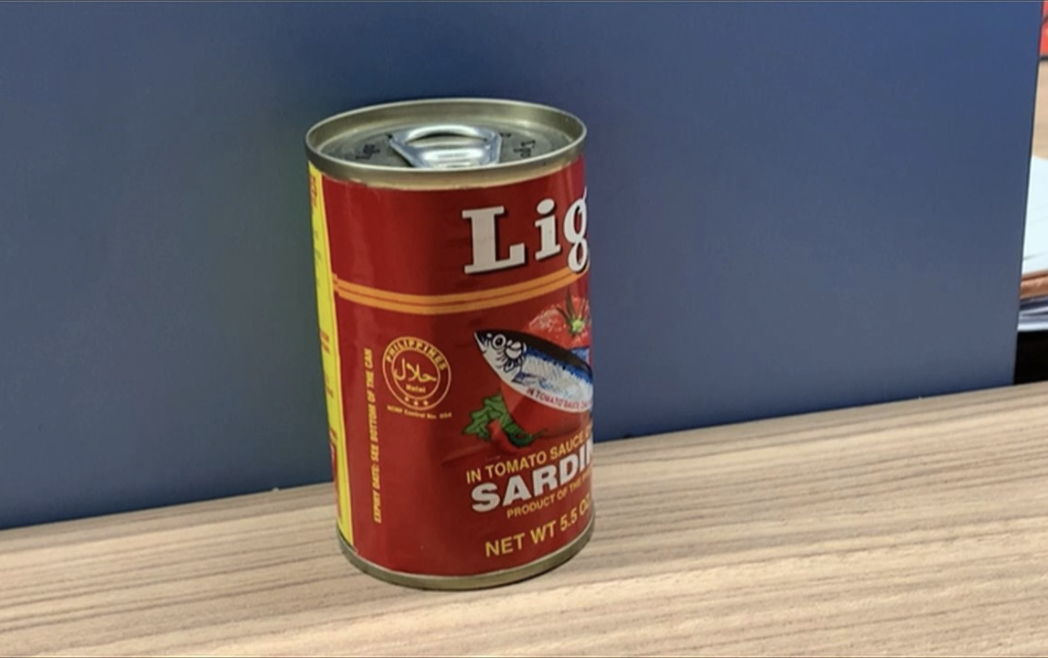sardines_100g-199g: (325, 137, 589, 552)
